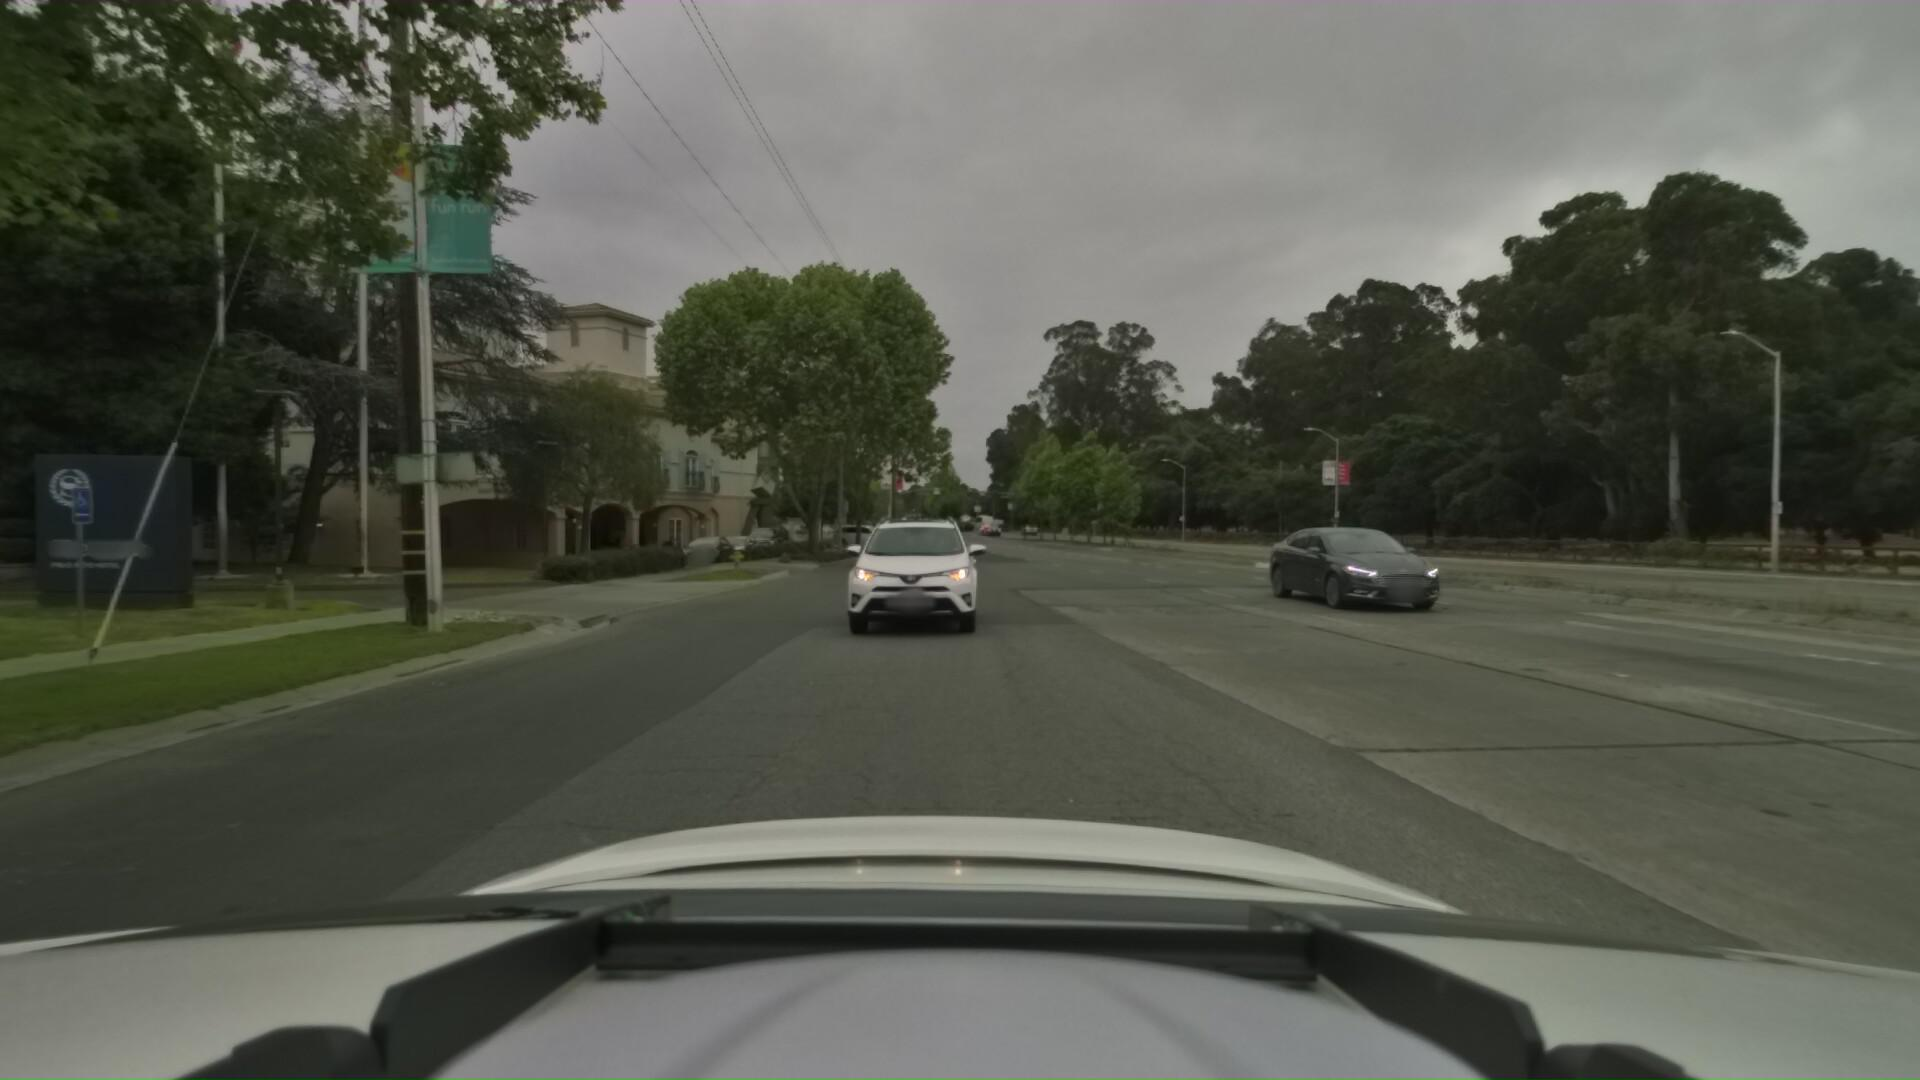car: (829, 506, 994, 645), (1233, 512, 1418, 600), (740, 520, 796, 553), (818, 518, 887, 545), (683, 527, 744, 556), (713, 527, 767, 558)
